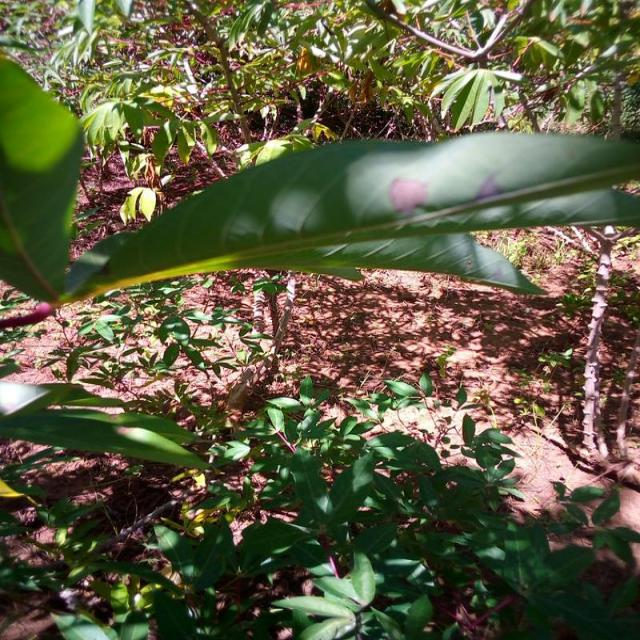cassava leaf: (49, 128, 638, 308)
